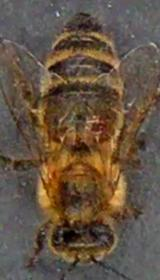varroa_mite: (77, 115, 108, 136)
